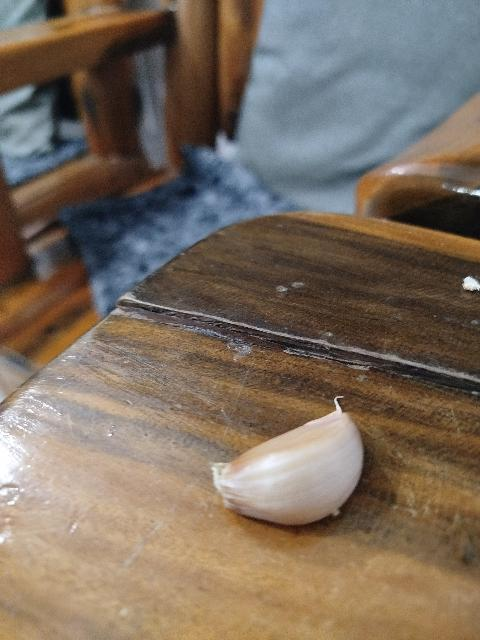garlic: (211, 396, 365, 526)
